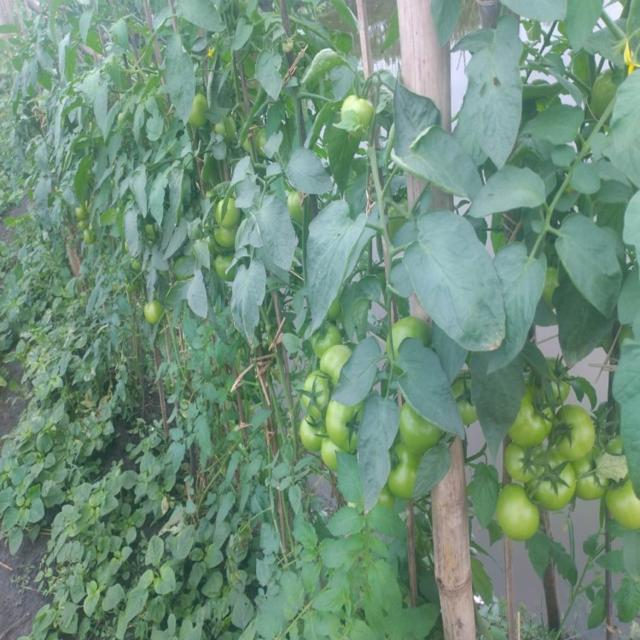tomato: (496, 484, 544, 537), (554, 404, 601, 458), (330, 390, 367, 452), (301, 370, 349, 417), (535, 457, 581, 506), (512, 389, 551, 445), (404, 403, 445, 449), (389, 316, 432, 359), (391, 445, 427, 495), (609, 479, 640, 531), (593, 68, 620, 118), (507, 442, 540, 482), (543, 357, 572, 402), (324, 344, 356, 381), (456, 379, 481, 426), (280, 189, 311, 224), (574, 462, 601, 499), (216, 195, 249, 224), (343, 97, 377, 123), (190, 97, 212, 134), (314, 326, 344, 353), (142, 300, 171, 327), (213, 225, 245, 247), (306, 418, 327, 447), (321, 441, 343, 468), (216, 253, 241, 275), (82, 235, 100, 245), (77, 208, 91, 220), (79, 222, 88, 232)
